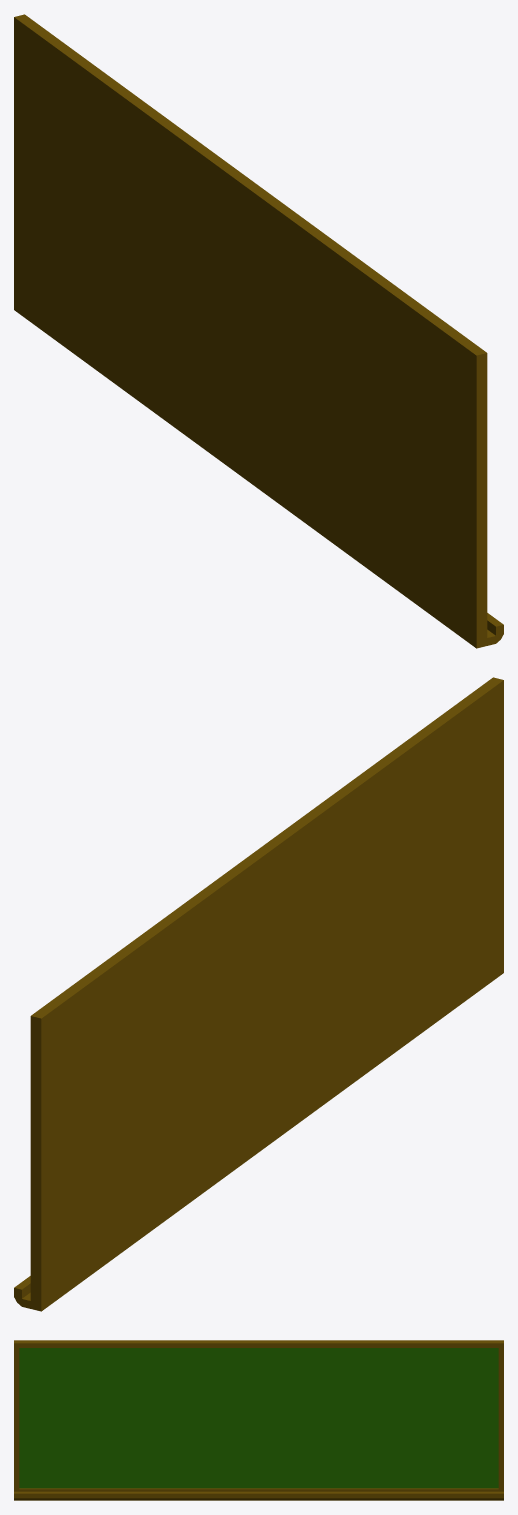
File: blackboard.fbx
3 views of the same model, one above another, from view 1: azimuth 30°, elevation 25°; view 2: azimuth 150°, elevation 25°; view 3: azimuth 270°, elevation 25° (orthographic). The views are drawn at different scales.
Visible parts, largest first — view 1: Blackboard; view 2: Blackboard; view 3: Blackboard.
Boxes of the visible parts, box(x1,y1,x2,y2) form: Blackboard: box(14, 14, 503, 648); Blackboard: box(14, 677, 503, 1311); Blackboard: box(14, 1340, 503, 1500).
Bounding box in the file's own units: 34.28 × 349 × 1000.
